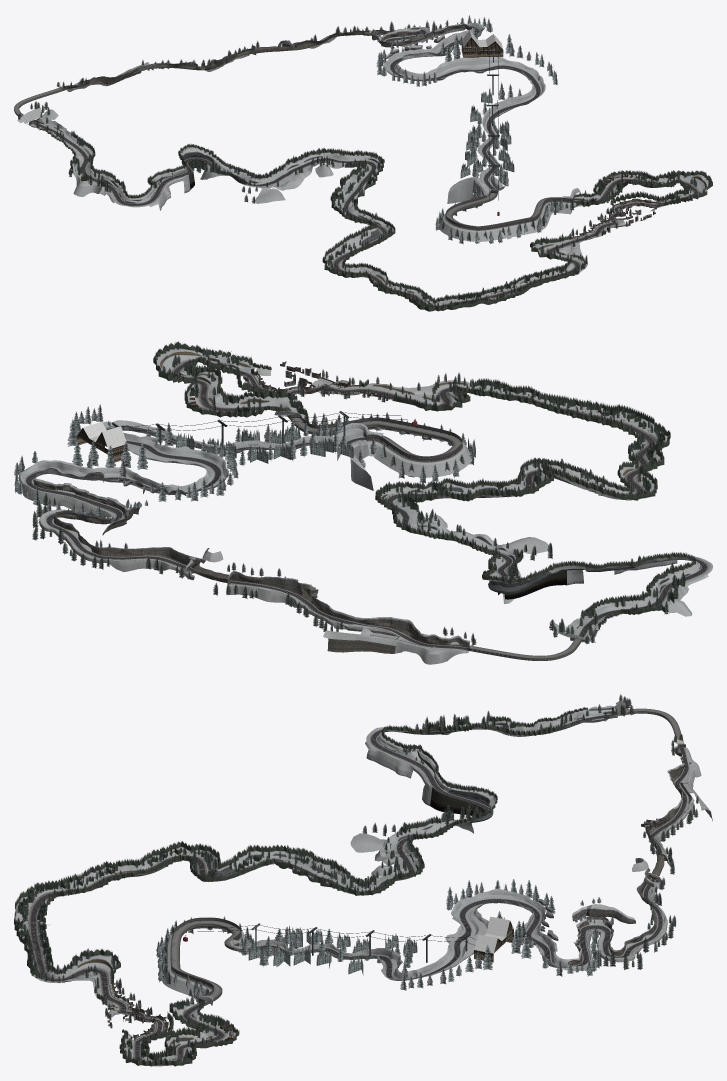
The picture shows the model from 3 angles, top to bottom: view 1: azimuth 30°, elevation 25°; view 2: azimuth 150°, elevation 25°; view 3: azimuth 270°, elevation 25°; orthographic projection. The views are drawn at different scales.
Parts seen in each view (by area): view 1: 0018.001_material_atlas_00002_1_0, 0022.011_material_atlas_00002_1_0, 0020_material_atlas_00002_1_0, 0006.001_material_atlas_00002_1_0, 0005.003_material_atlas_00002_1_0, 0020.008_material_atlas_00002_1_0, 0001.011_material_atlas_00002_1_0, 0024.001_material_atlas_00002_1_0, 0009.001_material_atlas_00002_1_0, 0019.006_material_atlas_00002_1_0, 0020.009_material_atlas_00002_1_0; view 2: 0021.018_material_atlas_00002_1_0, 0020.008_material_atlas_00002_1_0, 0016.002_material_atlas_00002_1_0, 0011.023_material_atlas_00002_1_0, 0004.001_material_atlas_00002_1_0, 0006.001_material_atlas_00002_1_0, 0005.003_material_atlas_00002_1_0, 0024.001_material_atlas_00002_1_0, 0018.006_material_atlas_00002_1_0, 0011_material_atlas_00002_1_0, 0020_material_atlas_00002_1_0, 0001.011_material_atlas_00002_1_0 (+20 smaller); view 3: 0020.009_material_atlas_00002_1_0, 0006.001_material_atlas_00002_1_0, 0017.006_material_atlas_00002_1_0, 0024.001_material_atlas_00002_1_0, 0018.001_material_atlas_00002_1_0, 0002.001_material_atlas_00002_1_0, 0018.030_material_atlas_00002_1_0, 0022.011_material_atlas_00002_1_0, 0005.003_material_atlas_00002_1_0, 0004.001_material_atlas_00002_1_0, 0009.009_material_atlas_00002_1_0, 0002.012_material_atlas_00002_1_0 (+1 smaller).
Part boxes in pixels (x1=…): 0018.001_material_atlas_00002_1_0: x1=426, y1=56, x2=534, y2=78; 0022.011_material_atlas_00002_1_0: x1=465, y1=204, x2=552, y2=241; 0020_material_atlas_00002_1_0: x1=447, y1=177, x2=489, y2=203; 0006.001_material_atlas_00002_1_0: x1=200, y1=164, x2=291, y2=203; 0005.003_material_atlas_00002_1_0: x1=282, y1=160, x2=370, y2=188; 0020.008_material_atlas_00002_1_0: x1=460, y1=120, x2=511, y2=178; 0001.011_material_atlas_00002_1_0: x1=409, y1=290, x2=521, y2=311; 0024.001_material_atlas_00002_1_0: x1=612, y1=170, x2=712, y2=199; 0009.001_material_atlas_00002_1_0: x1=52, y1=134, x2=97, y2=196; 0019.006_material_atlas_00002_1_0: x1=483, y1=74, x2=535, y2=123; 0020.009_material_atlas_00002_1_0: x1=461, y1=123, x2=514, y2=186; 0021.018_material_atlas_00002_1_0: x1=367, y1=441, x2=472, y2=477; 0020.008_material_atlas_00002_1_0: x1=207, y1=425, x2=353, y2=463; 0016.002_material_atlas_00002_1_0: x1=18, y1=460, x2=135, y2=492; 0011.023_material_atlas_00002_1_0: x1=371, y1=633, x2=468, y2=664; 0004.001_material_atlas_00002_1_0: x1=405, y1=474, x2=553, y2=502; 0006.001_material_atlas_00002_1_0: x1=478, y1=535, x2=552, y2=603; 0005.003_material_atlas_00002_1_0: x1=393, y1=499, x2=485, y2=544; 0024.001_material_atlas_00002_1_0: x1=153, y1=342, x2=221, y2=414; 0018.006_material_atlas_00002_1_0: x1=113, y1=427, x2=214, y2=461; 0011_material_atlas_00002_1_0: x1=327, y1=638, x2=395, y2=653; 0020_material_atlas_00002_1_0: x1=346, y1=440, x2=373, y2=490; 0001.011_material_atlas_00002_1_0: x1=561, y1=395, x2=670, y2=450; 0020.009_material_atlas_00002_1_0: x1=248, y1=927, x2=369, y2=974; 0006.001_material_atlas_00002_1_0: x1=350, y1=819, x2=473, y2=857; 0017.006_material_atlas_00002_1_0: x1=455, y1=889, x2=553, y2=933; 0024.001_material_atlas_00002_1_0: x1=120, y1=1031, x2=239, y2=1066; 0018.001_material_atlas_00002_1_0: x1=434, y1=910, x2=488, y2=974; 0002.001_material_atlas_00002_1_0: x1=72, y1=841, x2=201, y2=881; 0018.030_material_atlas_00002_1_0: x1=474, y1=916, x2=513, y2=953; 0022.011_material_atlas_00002_1_0: x1=161, y1=933, x2=208, y2=996; 0005.003_material_atlas_00002_1_0: x1=361, y1=851, x2=407, y2=891; 0004.001_material_atlas_00002_1_0: x1=249, y1=844, x2=361, y2=886; 0009.009_material_atlas_00002_1_0: x1=453, y1=722, x2=561, y2=735; 0002.012_material_atlas_00002_1_0: x1=74, y1=855, x2=185, y2=893.
Size of the model in its own units: 2024 by 334 by 1909.
1 material, 1 textured.
